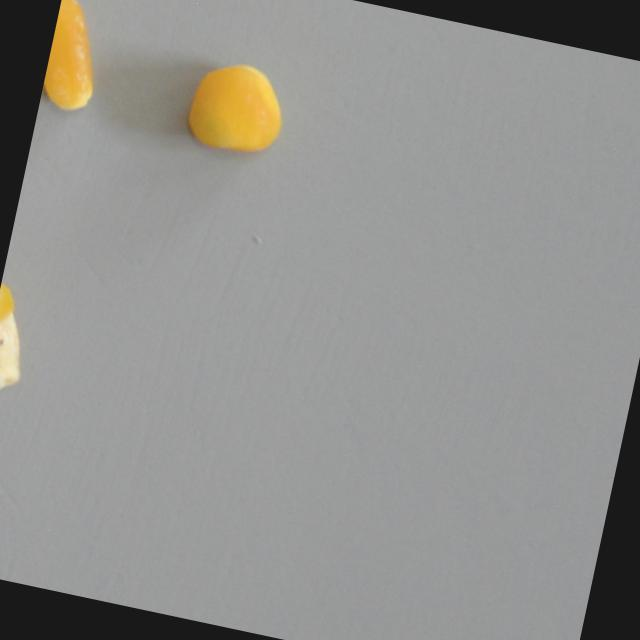estandar: (183, 52, 296, 164)
pelicula: (39, 0, 111, 114)
punto_negro: (0, 281, 41, 403)
